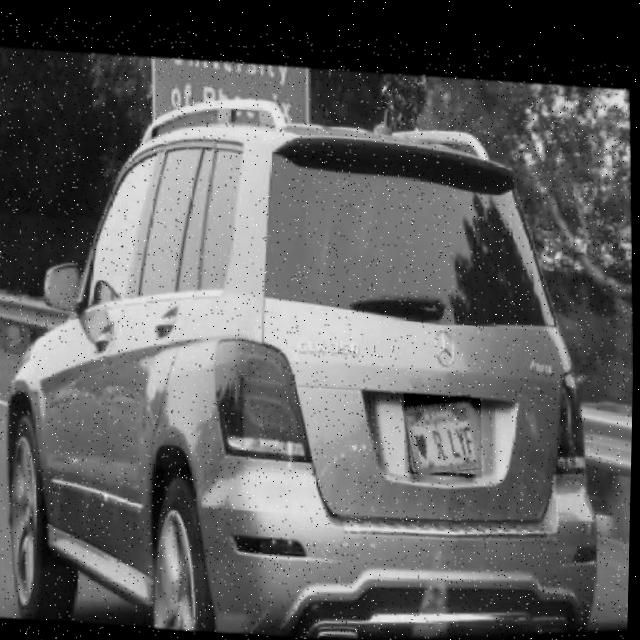LicensePlate: (404, 381, 484, 470)
